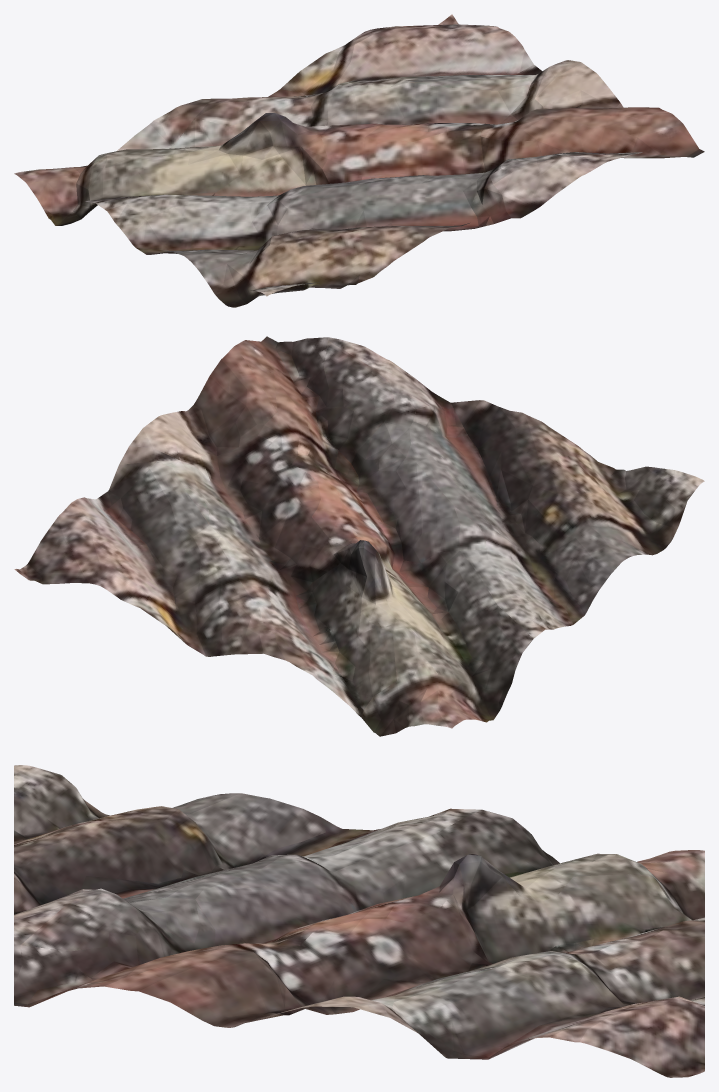
The picture shows the model from 3 angles, top to bottom: view 1: azimuth 30°, elevation 25°; view 2: azimuth 150°, elevation 25°; view 3: azimuth 270°, elevation 25°; orthographic projection. The views are drawn at different scales.
Size of the model in its own units: 0.8374 by 0.257 by 0.8374.
Materials: 3 (3 with a texture image).
